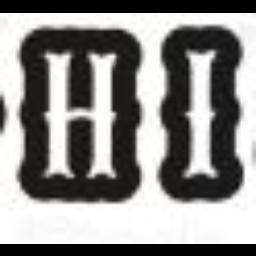h: (25, 20, 145, 198)
i: (166, 28, 228, 192)
